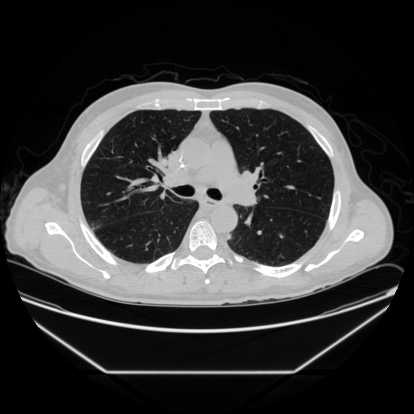nodule: (226, 233, 232, 239)
